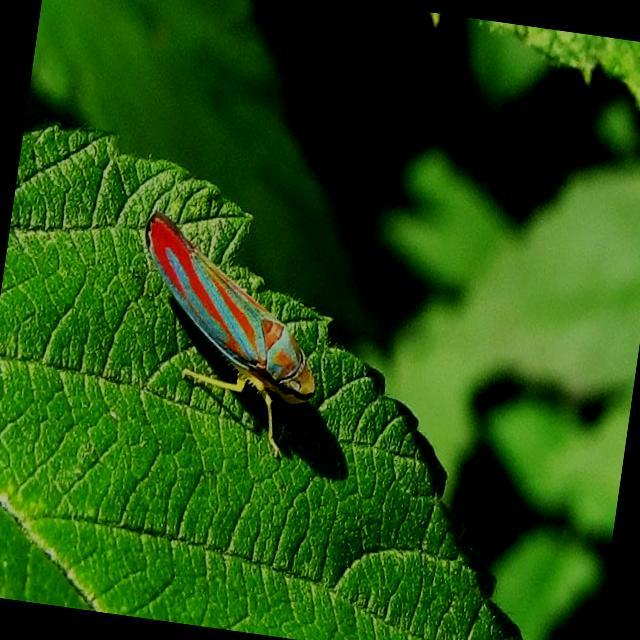green leaf hopper: (145, 211, 314, 454)
